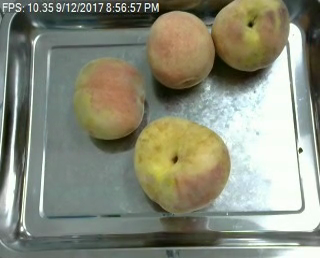Peach: (133, 115, 230, 214), (73, 58, 145, 141), (213, 0, 289, 72), (146, 10, 213, 90)
